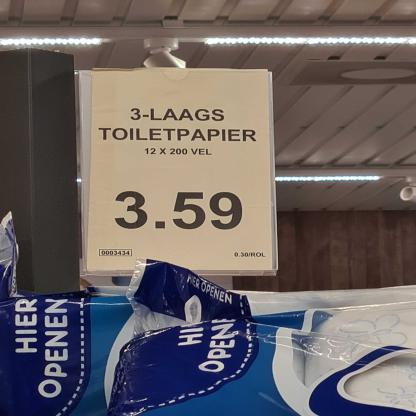prtg: (80, 72, 277, 276)
